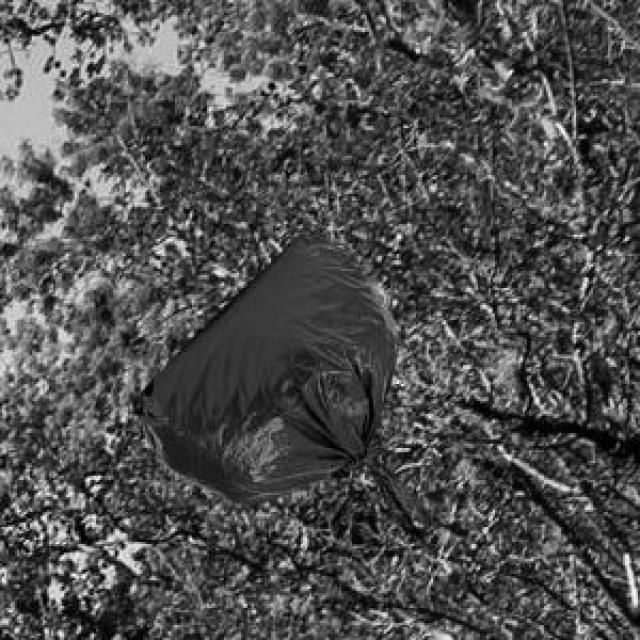miscellaneous trash: (128, 230, 427, 538)
